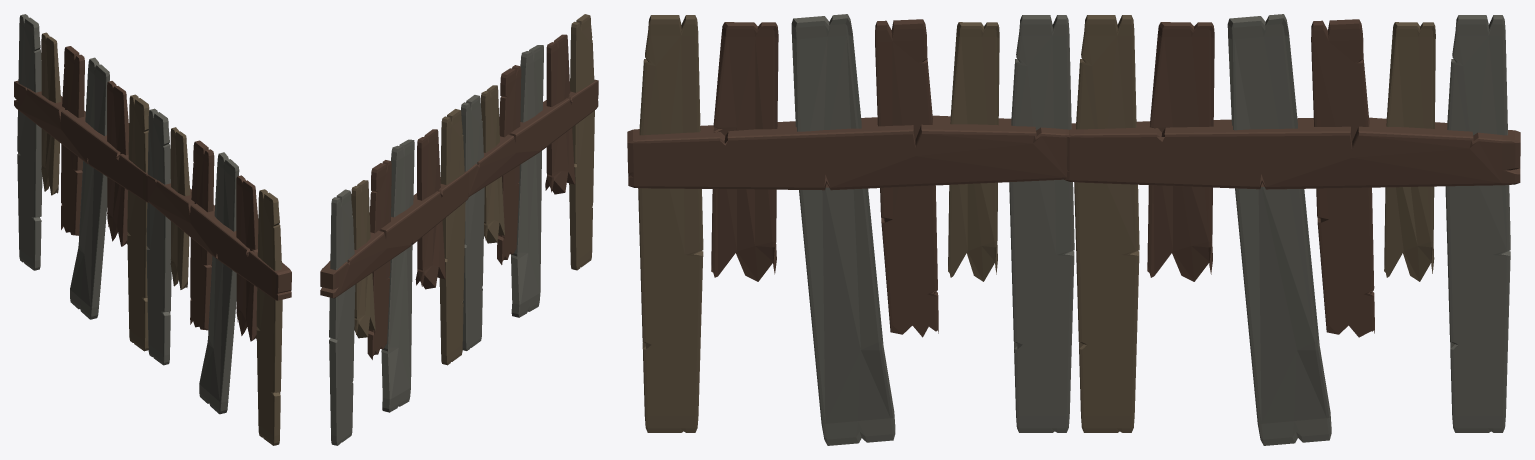
Rendered from broken wooden fence.fbx.
3 views of the same model, side by side, from view 1: azimuth 30°, elevation 25°; view 2: azimuth 150°, elevation 25°; view 3: azimuth 270°, elevation 25° (orthographic). The views are drawn at different scales.
Parts seen in each view (by area): view 1: Cube.021, Cube.002; view 2: Cube.002, Cube.021; view 3: Cube.002, Cube.021.
Boxes of the visible parts, x1=… form: Cube.021: x1=146, y1=108, x2=291, y2=445; Cube.002: x1=14, y1=14, x2=149, y2=351; Cube.002: x1=320, y1=109, x2=468, y2=445; Cube.021: x1=461, y1=14, x2=598, y2=350; Cube.002: x1=1064, y1=14, x2=1520, y2=445; Cube.021: x1=627, y1=14, x2=1074, y2=445.
Size of the model in its own units: 34.63 by 414 by 779.
